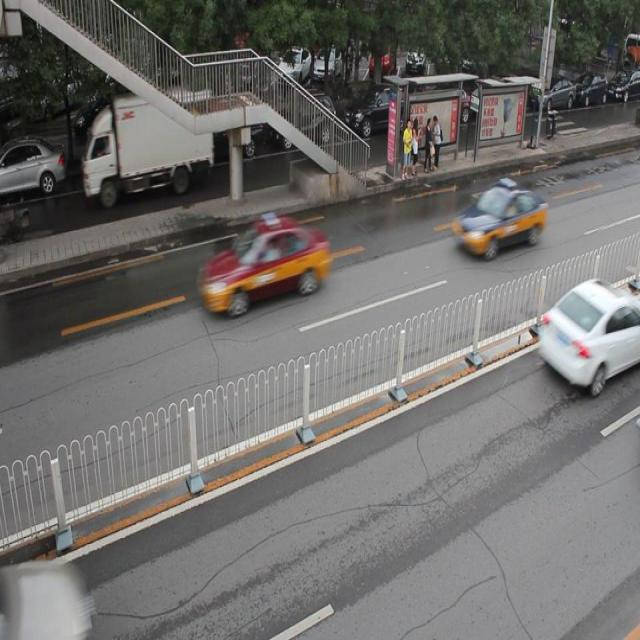bus: (84, 90, 217, 204)
car: (200, 216, 328, 315), (538, 276, 640, 391), (1, 557, 94, 640), (453, 178, 544, 256), (174, 107, 265, 168), (81, 121, 165, 185), (342, 79, 412, 139), (269, 87, 333, 150), (1, 137, 66, 197)
